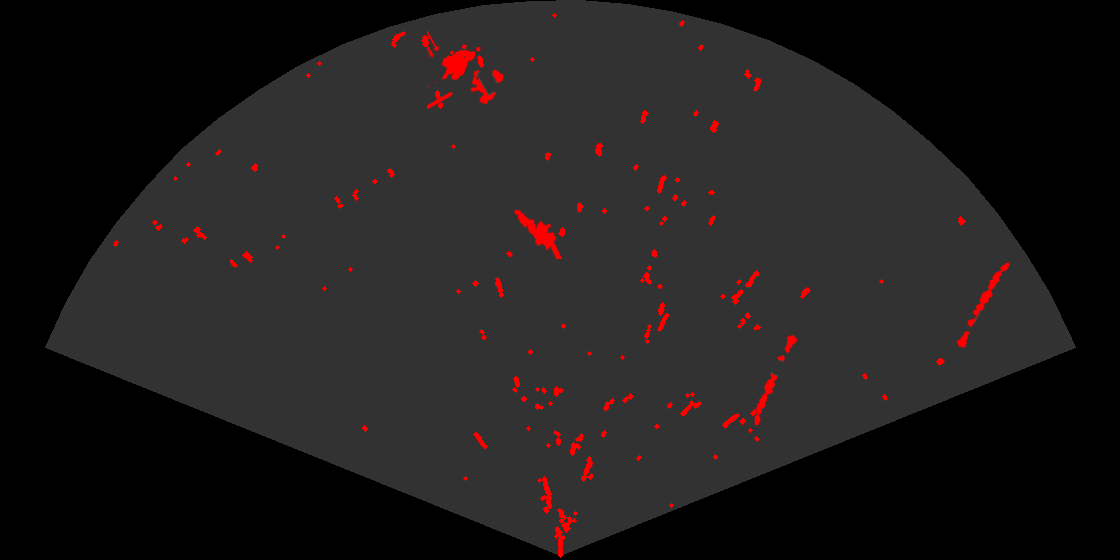cage: (427, 29, 505, 111)
chain: (955, 261, 1011, 350), (753, 332, 799, 427)
frogman: (512, 207, 564, 259)
